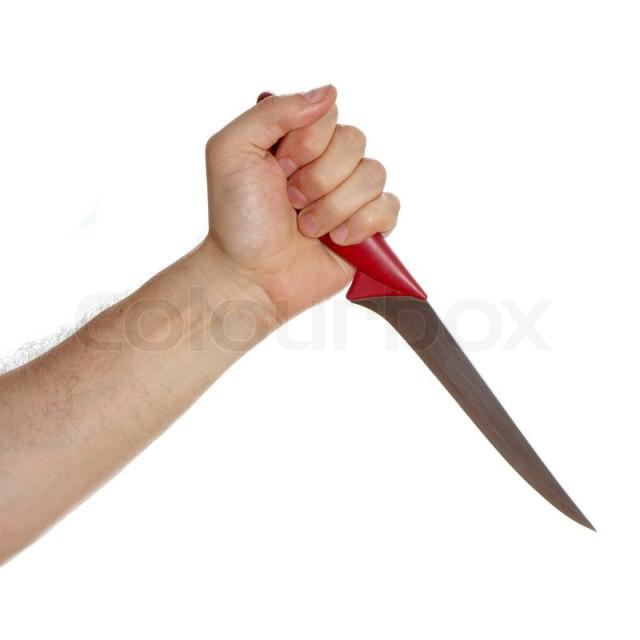knife: (349, 235, 602, 547)
